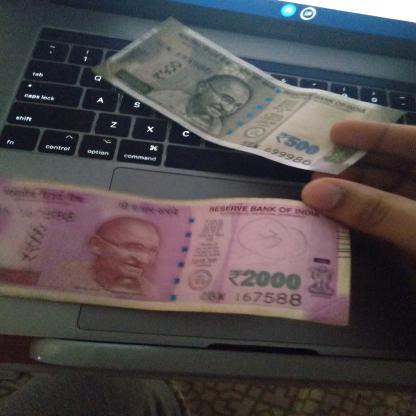New2000Front: (0, 189, 342, 316)
New500Front: (109, 23, 416, 167)
